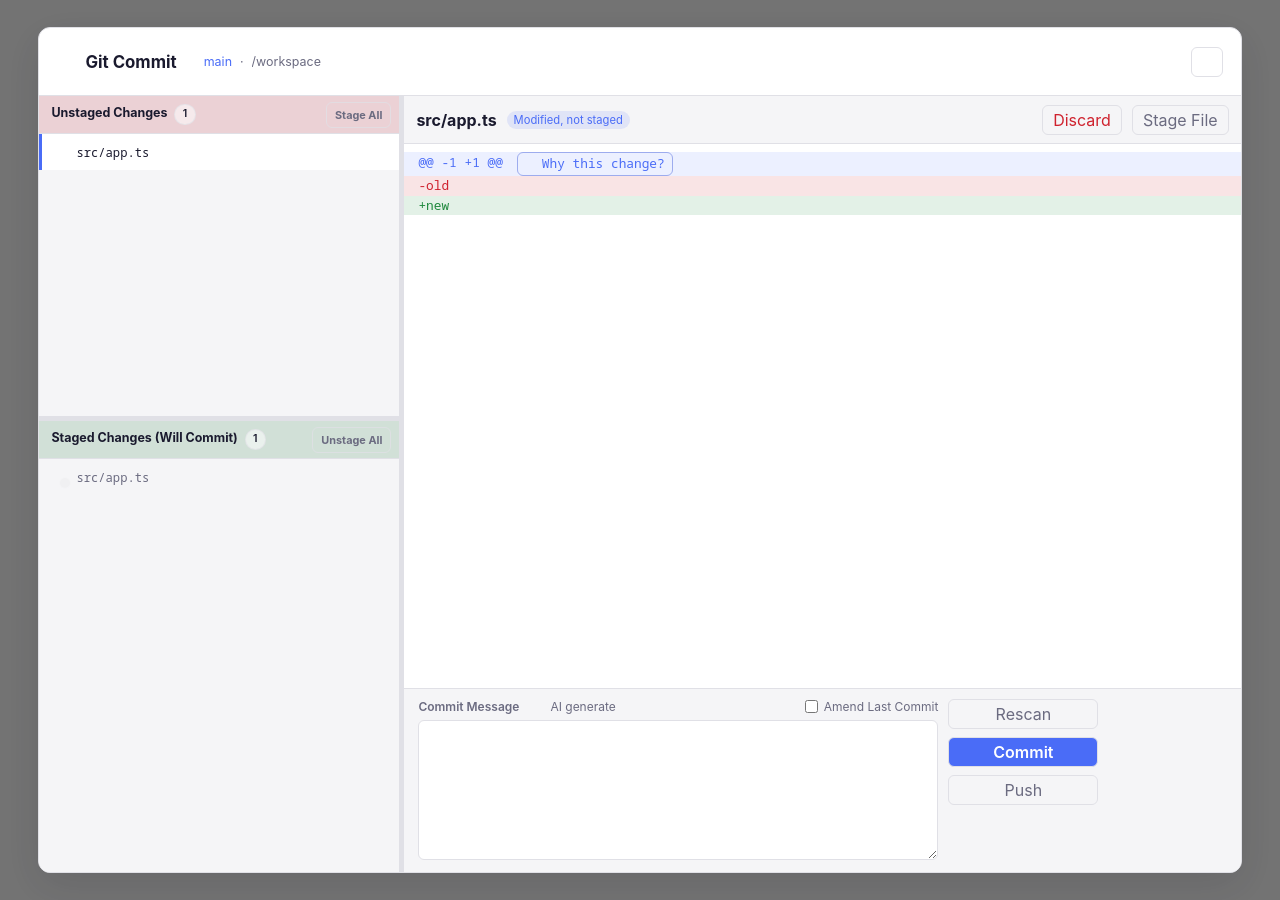
Test case: GitChangesView › explains the reason for an individual diff hunk on demand
The width and height of the screenshot is (1280, 900).
Click the button with class "git-change-reason-button".
click(595, 164)  # box [517, 152, 673, 176]
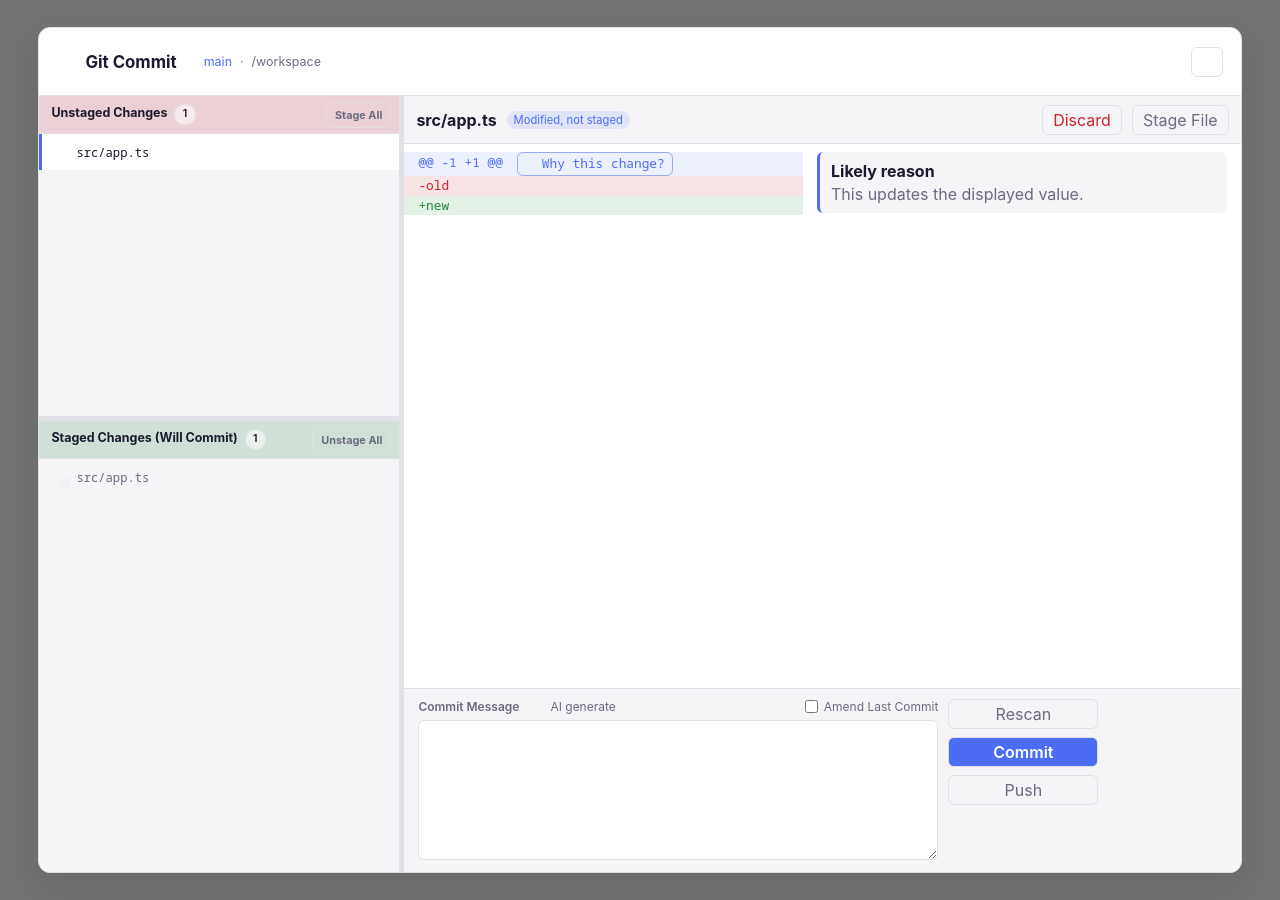
Expected: the number of elements with class "git-changes-line" is 3, [404, 152, 803, 176]; [404, 176, 803, 196]; [404, 196, 803, 216]
Expected: the number of messages with class "git-change-reason" is 1, [817, 152, 1227, 213]
Expected: the message with class "git-change-reason" shows "This updates the displayed value.", [831, 184, 1084, 204]
